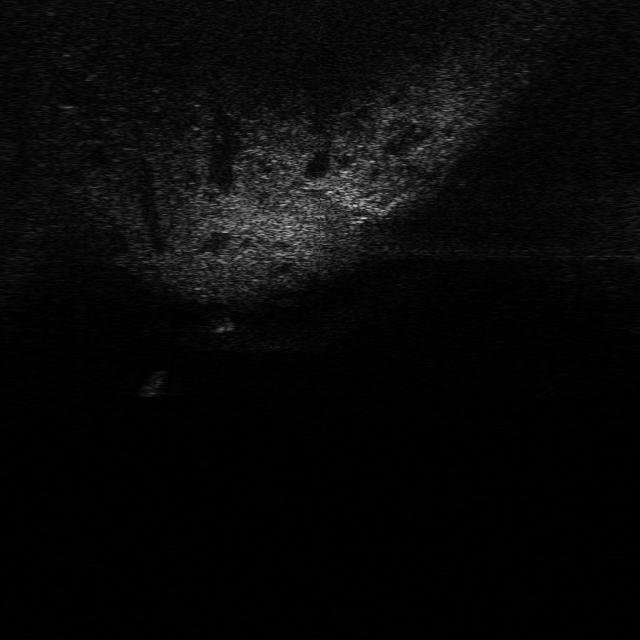cube: (198, 311, 236, 335)
cylinder: (136, 368, 168, 398)
